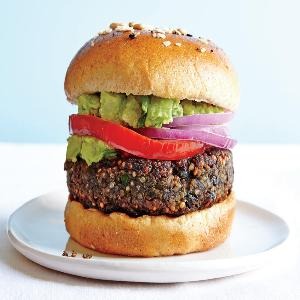cheeseburger: (62, 16, 242, 254)
